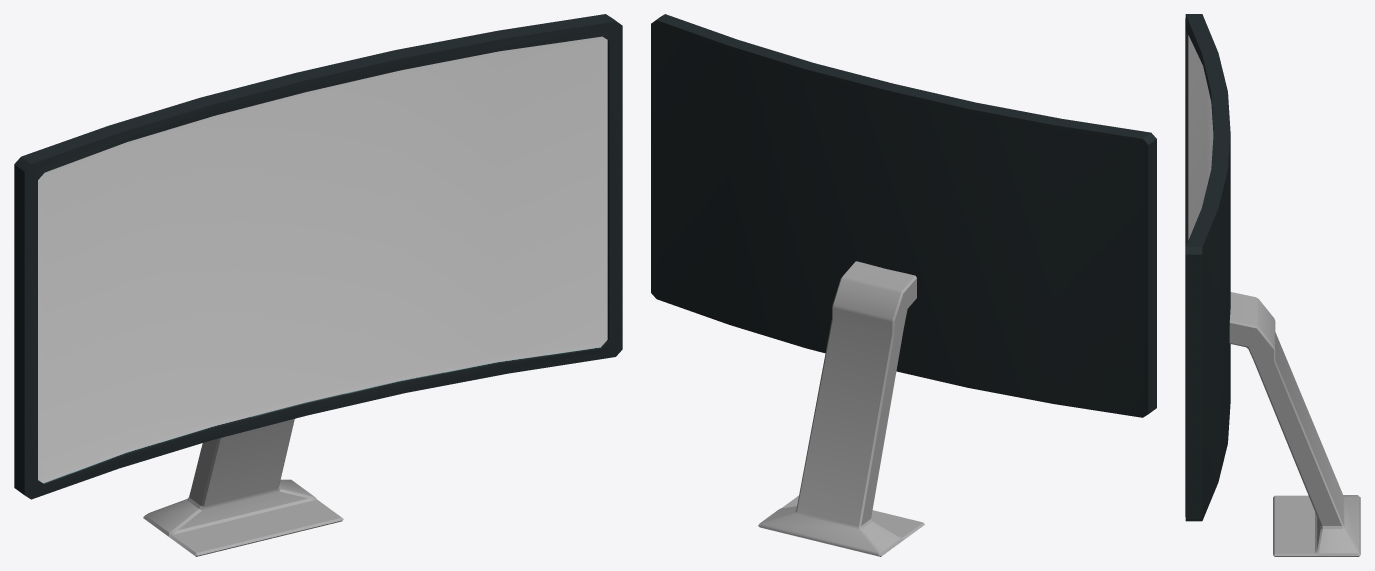
The model's file is computer.fbx.
3 views of the same model, side by side, from view 1: azimuth 30°, elevation 25°; view 2: azimuth 150°, elevation 25°; view 3: azimuth 270°, elevation 25° (orthographic). The views are drawn at different scales.
Parts seen in each view (by area): view 1: Computer1; view 2: Computer1; view 3: Computer1.
Part boxes in pixels (box(x1,y1,x2,y2)): Computer1: box(14, 14, 622, 556); Computer1: box(651, 14, 1156, 556); Computer1: box(1185, 14, 1360, 556).
Size of the model in its own units: 220 by 171 by 68.08.
